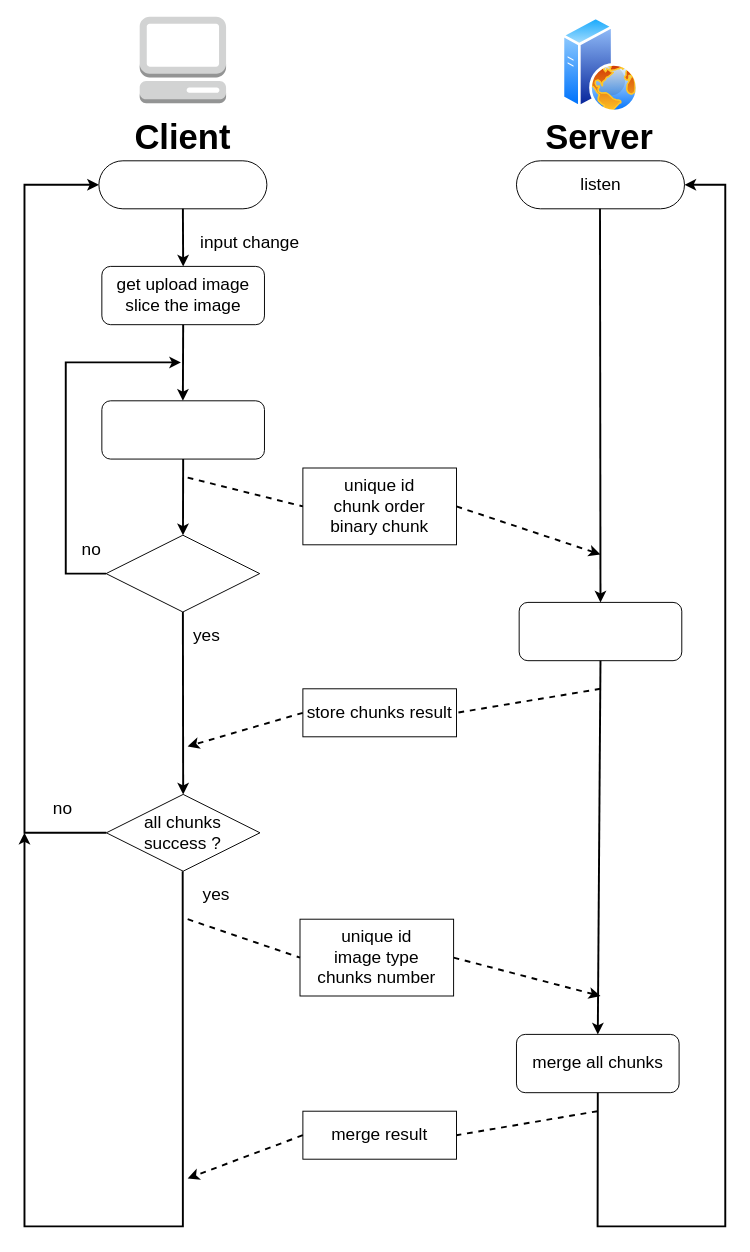
Some shapes in this 750 by 1252 pixel diagram are drawn without their labels. The centre of each missing label's shape, as x and y in pixels:
accept chunks and store chunks: (600,631)
all chunks sent ?: (182,573)
select an image: (182,184)
send chunk info: (182,429)
